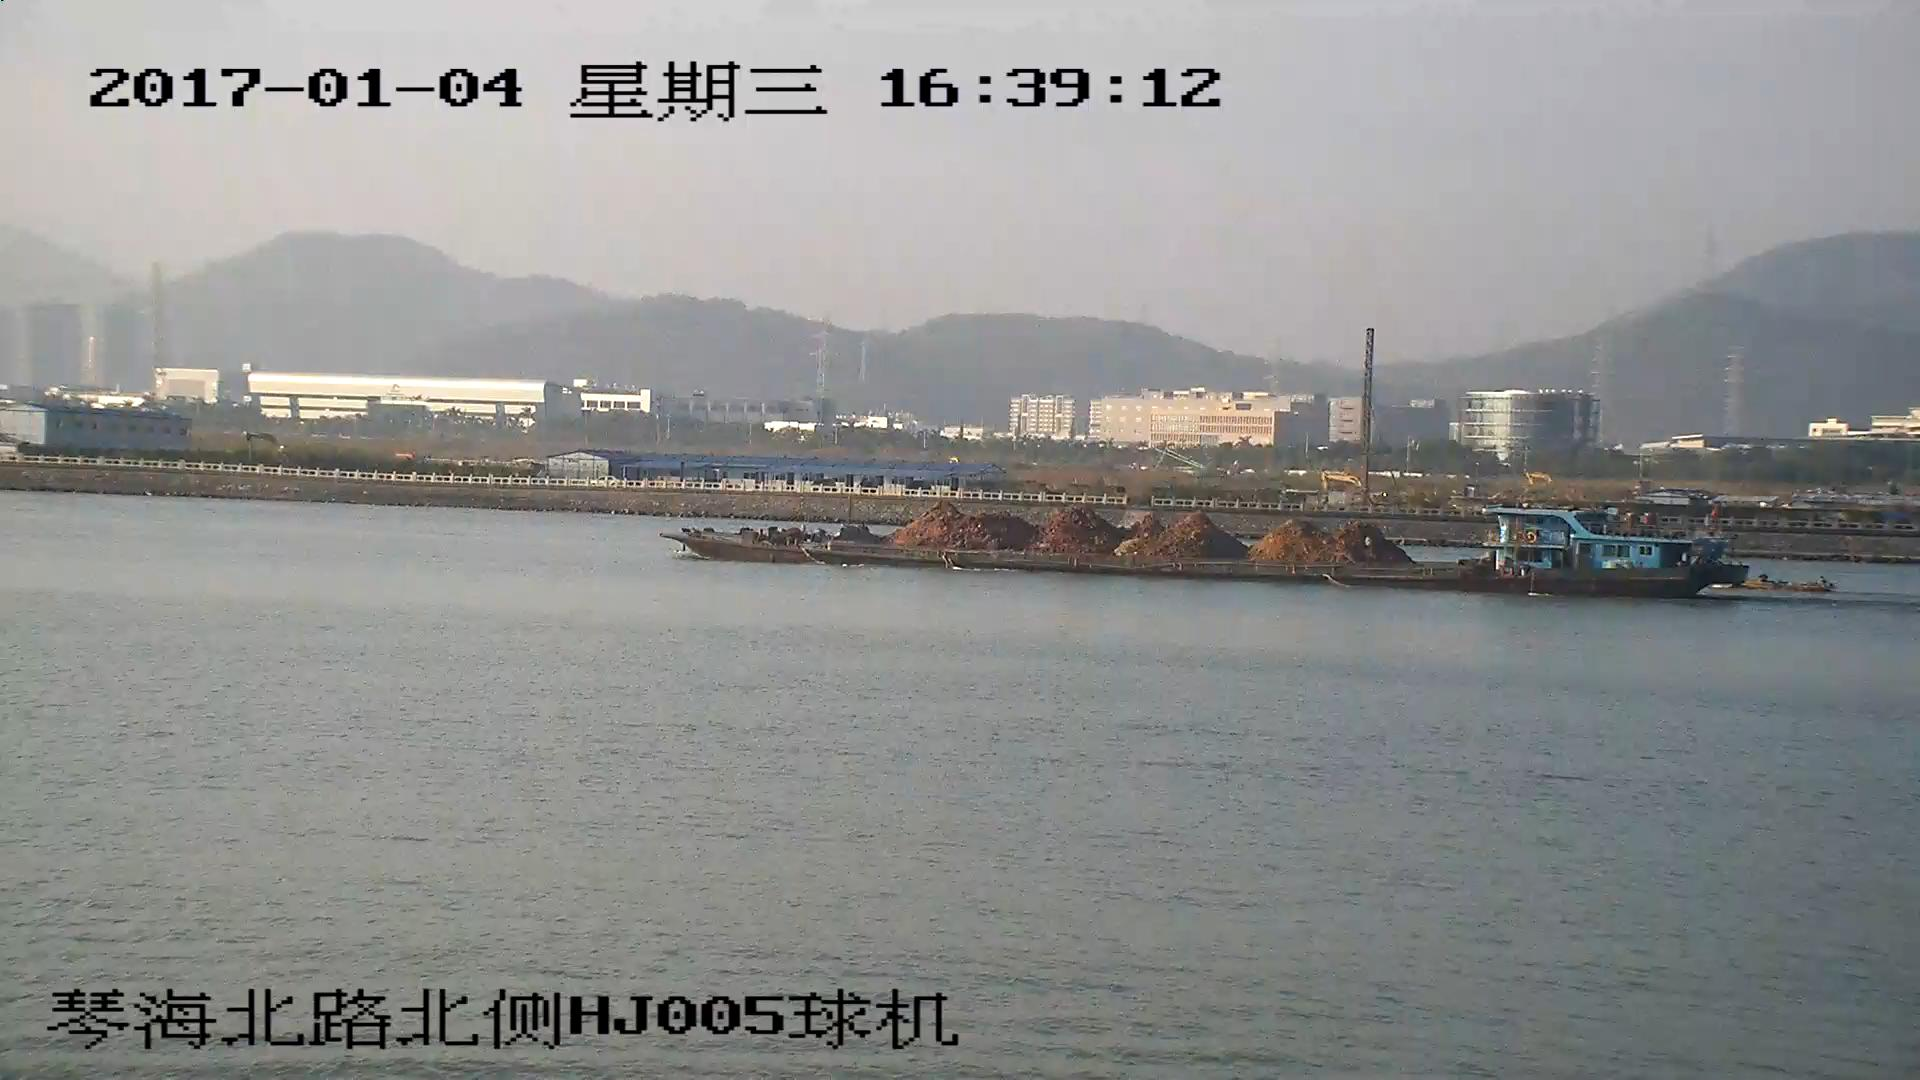ore carrier: (672, 506, 1749, 600)
